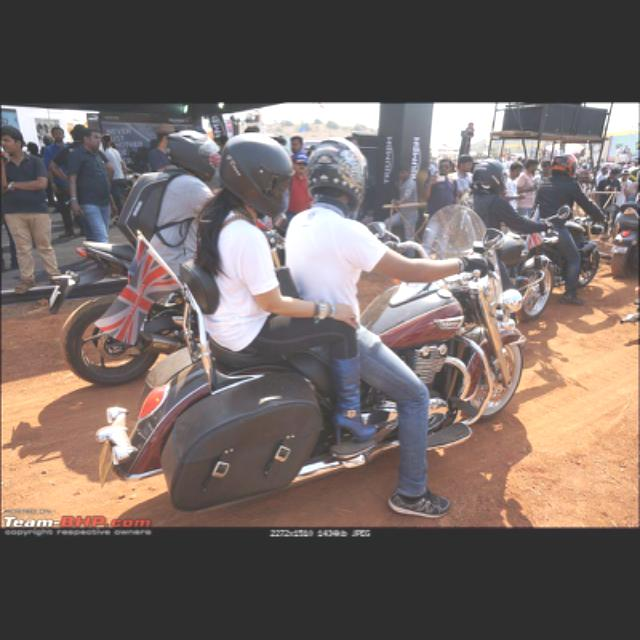With Helmet: (305, 138, 371, 215), (472, 160, 508, 194)
